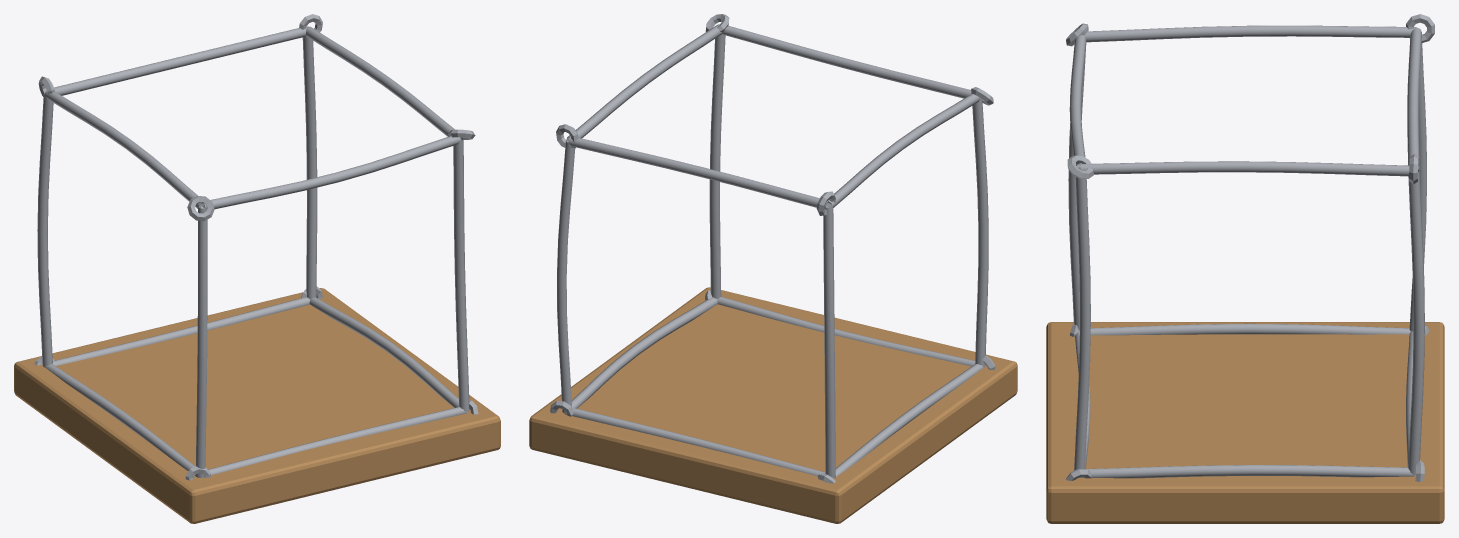
File: GC_WireCube.fbx
3 views of the same model, side by side, from view 1: azimuth 30°, elevation 25°; view 2: azimuth 150°, elevation 25°; view 3: azimuth 270°, elevation 25° (orthographic). The views are drawn at different scales.
Visible parts, largest first — view 1: GC_Prop_WireCube_Base, GC_Prop_WireCube_Wire, GC_Prop_WireCube_Knots; view 2: GC_Prop_WireCube_Base, GC_Prop_WireCube_Wire, GC_Prop_WireCube_Knots; view 3: GC_Prop_WireCube_Base, GC_Prop_WireCube_Wire, GC_Prop_WireCube_Knots.
Part boxes in pixels (box(x1,y1,x2,y2)): GC_Prop_WireCube_Base: box(14, 288, 500, 523); GC_Prop_WireCube_Wire: box(37, 26, 469, 477); GC_Prop_WireCube_Knots: box(34, 14, 478, 480); GC_Prop_WireCube_Base: box(529, 287, 1017, 523); GC_Prop_WireCube_Wire: box(557, 24, 988, 478); GC_Prop_WireCube_Knots: box(550, 14, 995, 483); GC_Prop_WireCube_Base: box(1046, 322, 1444, 523); GC_Prop_WireCube_Wire: box(1068, 25, 1426, 478); GC_Prop_WireCube_Knots: box(1066, 14, 1434, 481).
Size of the model in its own units: 480 by 474 by 480.
